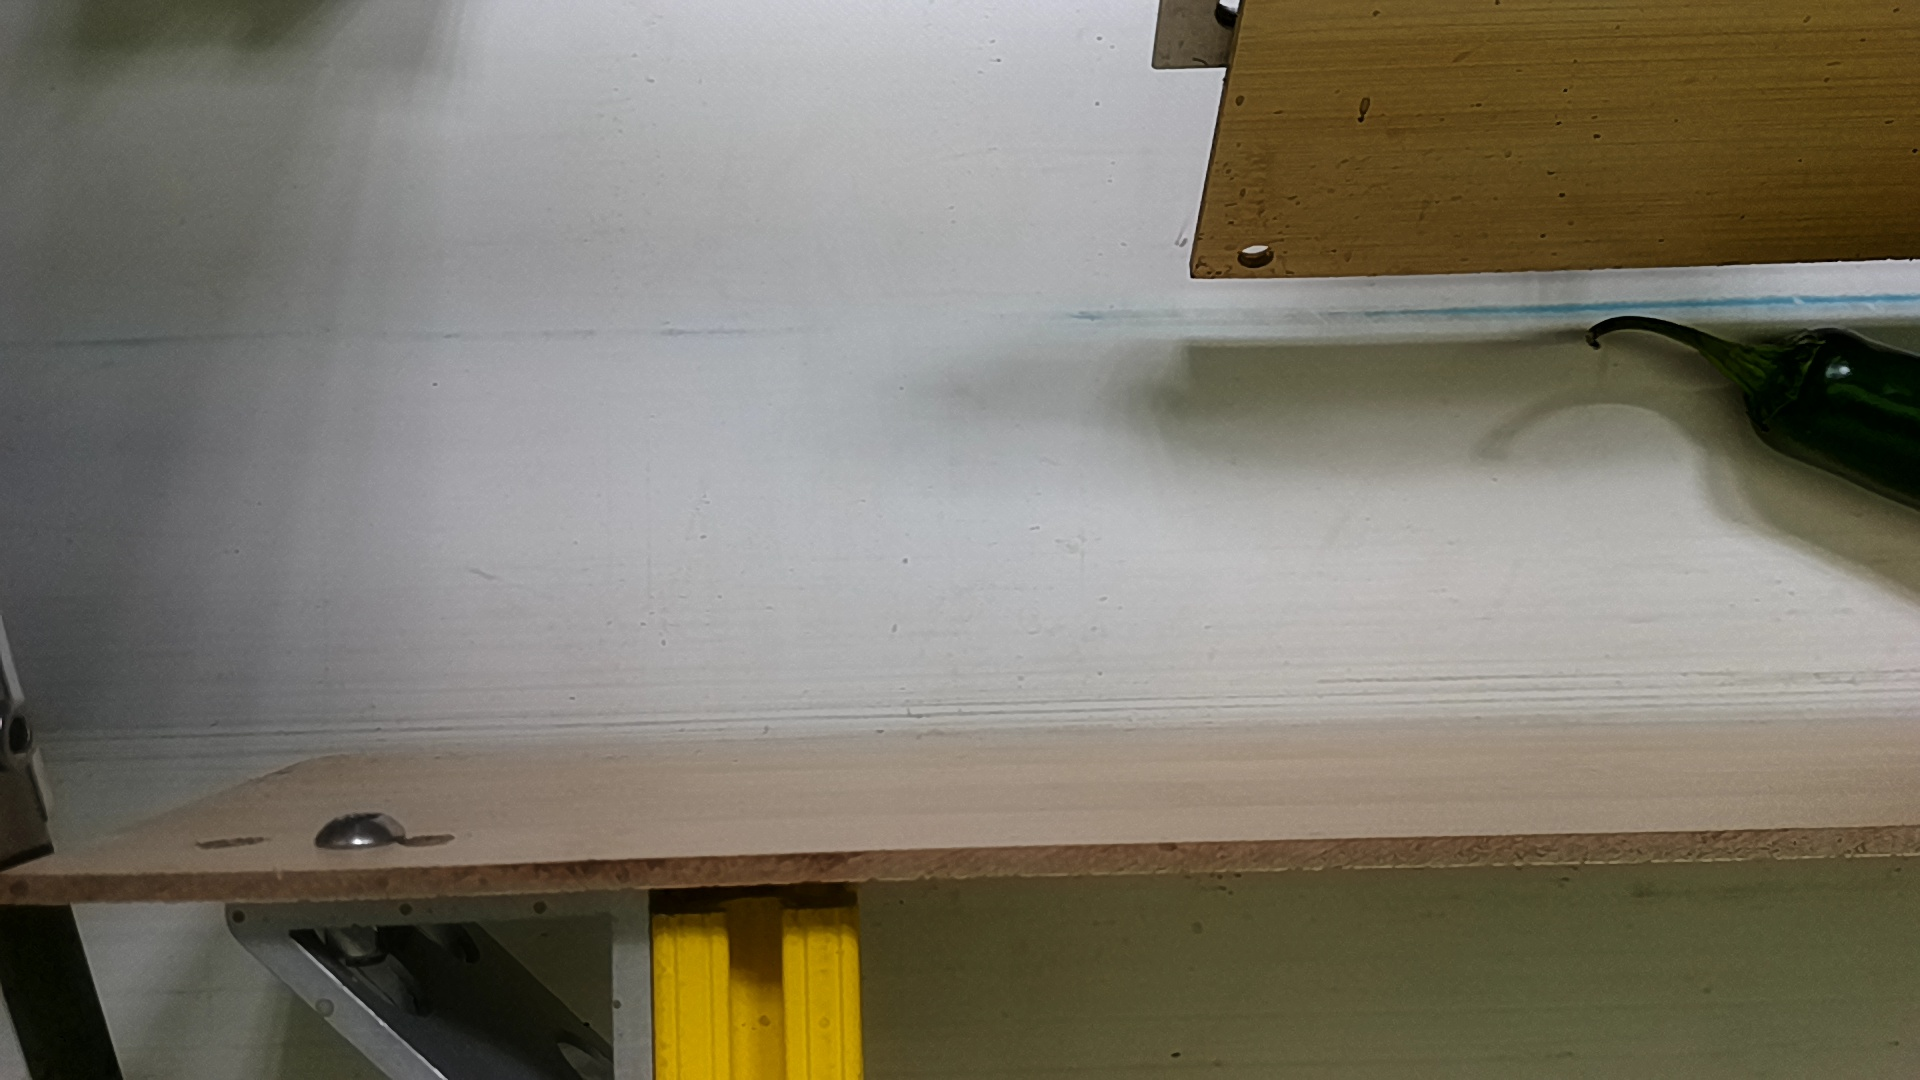Cut Point: (1733, 315, 1832, 469)
